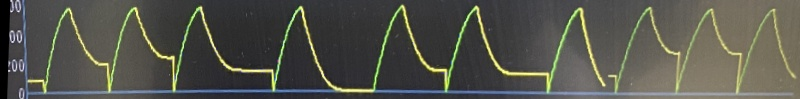leakage: (14, 1, 800, 99)
